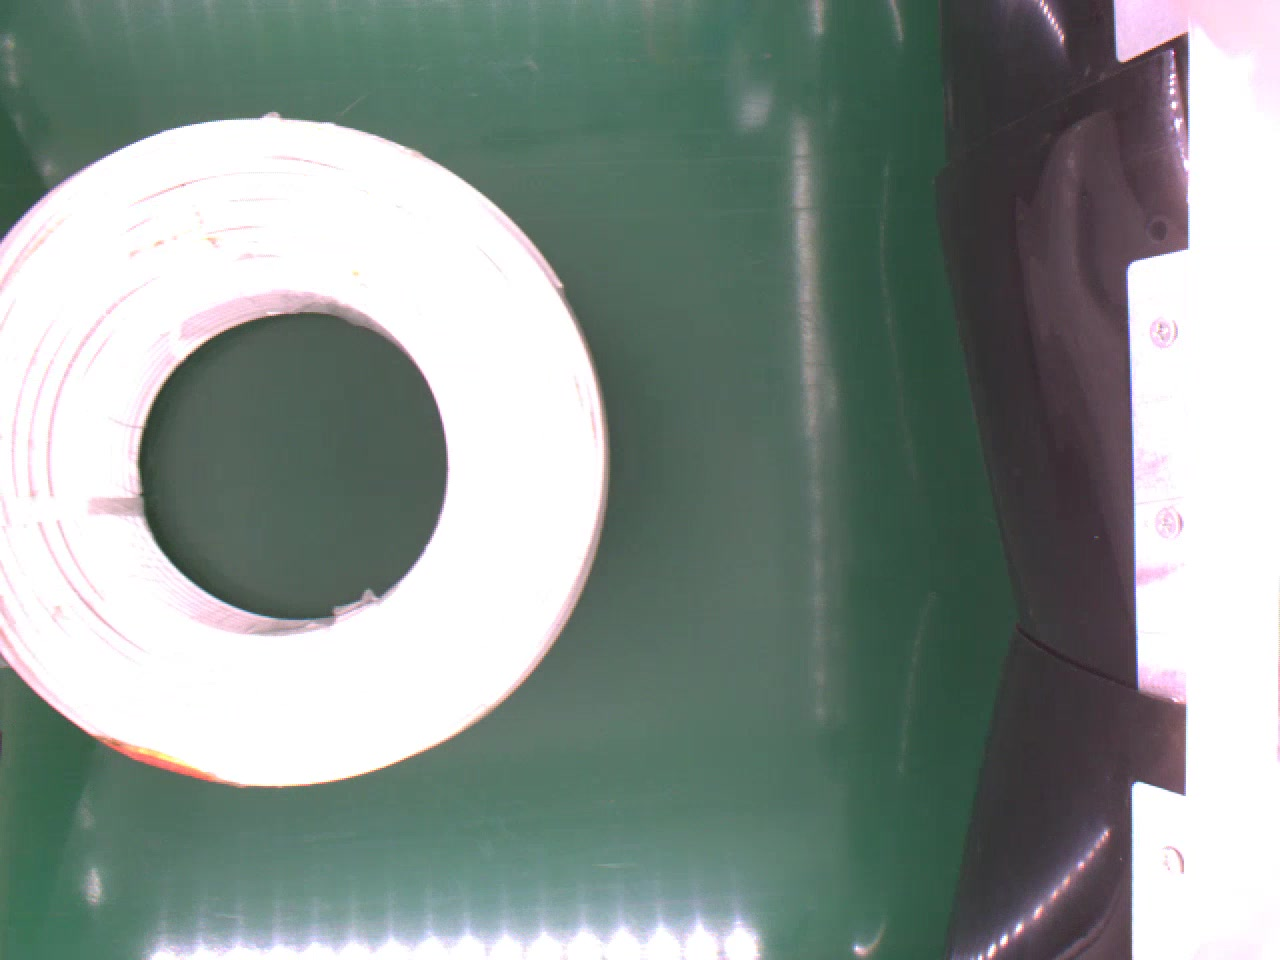white: (0, 111, 611, 796)
